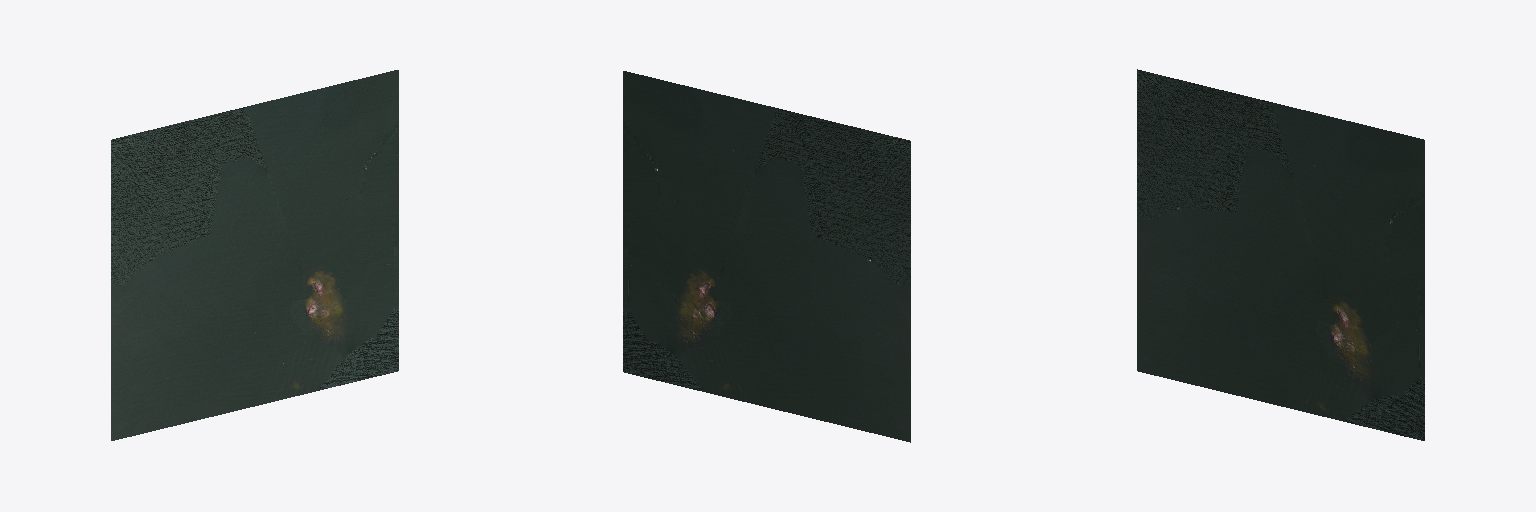
3 renders of one model, left to right at view 1: azimuth 30°, elevation 25°; view 2: azimuth 150°, elevation 25°; view 3: azimuth 330°, elevation 25°, orthographic.
Bounding box in the file's own units: 252 × 252 × 2.86.
2 materials, 1 textured.